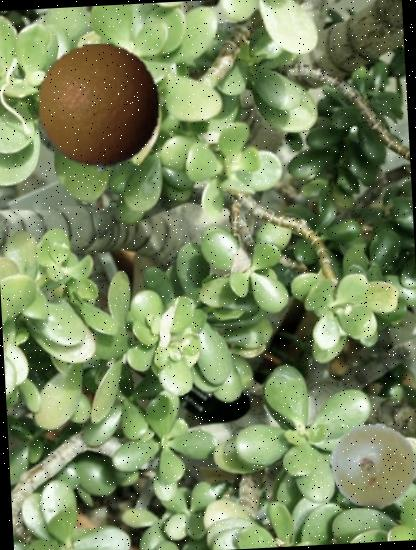Grape: (328, 420, 416, 511)
Orange: (32, 40, 168, 175)
